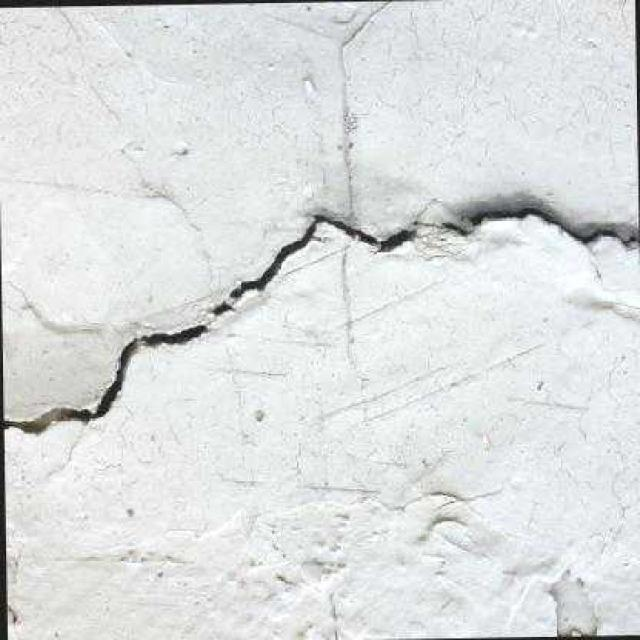D00: (2, 211, 417, 434), (440, 202, 639, 250)
